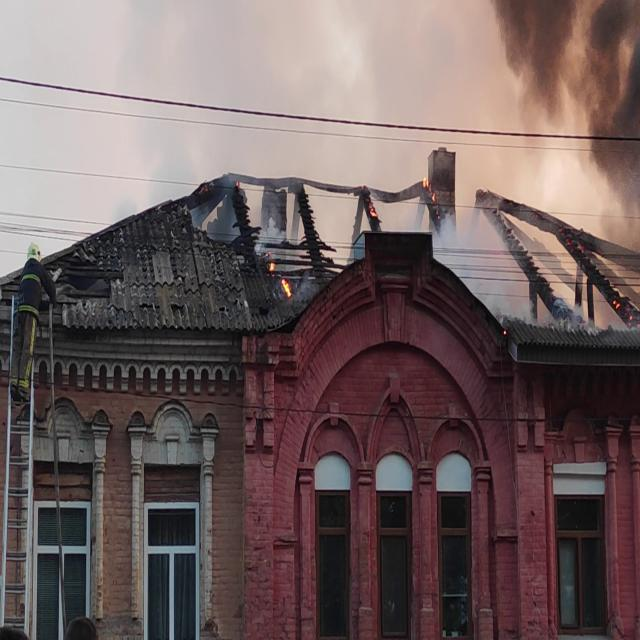smoke: (537, 0, 640, 115)
